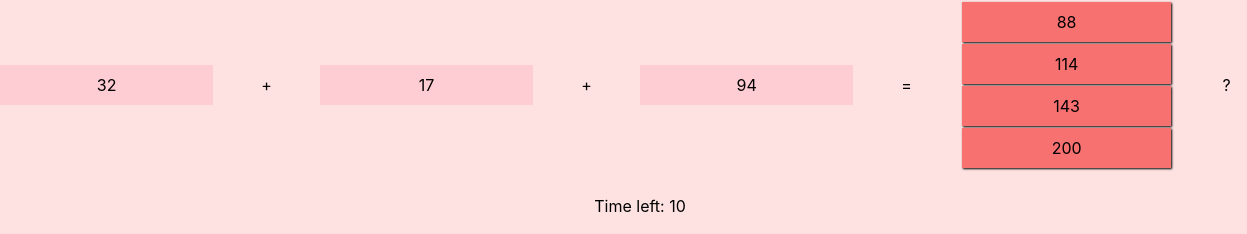
Test case: Choosing options › should show both the correct & false icons and a message when a false number is clicked
The image size is (1247, 234).
Expected: the text "Wrong!" is not shown
Step 1. Click the text "114" → [1067, 64], box [962, 44, 1171, 84]
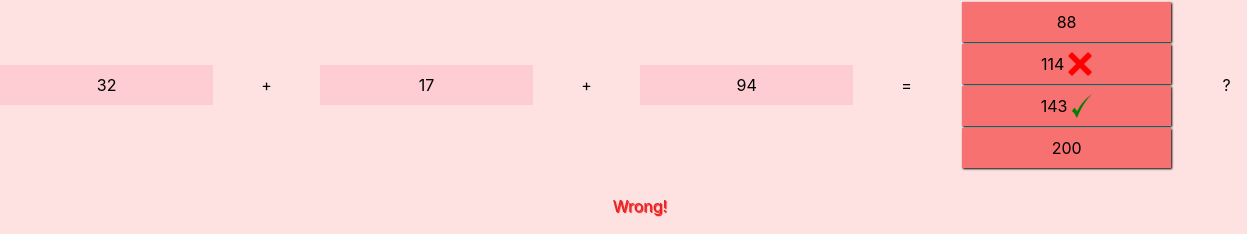
Result: the picture with alt text "correct" is shown at [1072, 94, 1092, 118]
Result: the picture with alt text "incorrect" is shown at [1068, 52, 1092, 76]
Result: the text "Wrong!" is shown at [613, 196, 667, 216]
